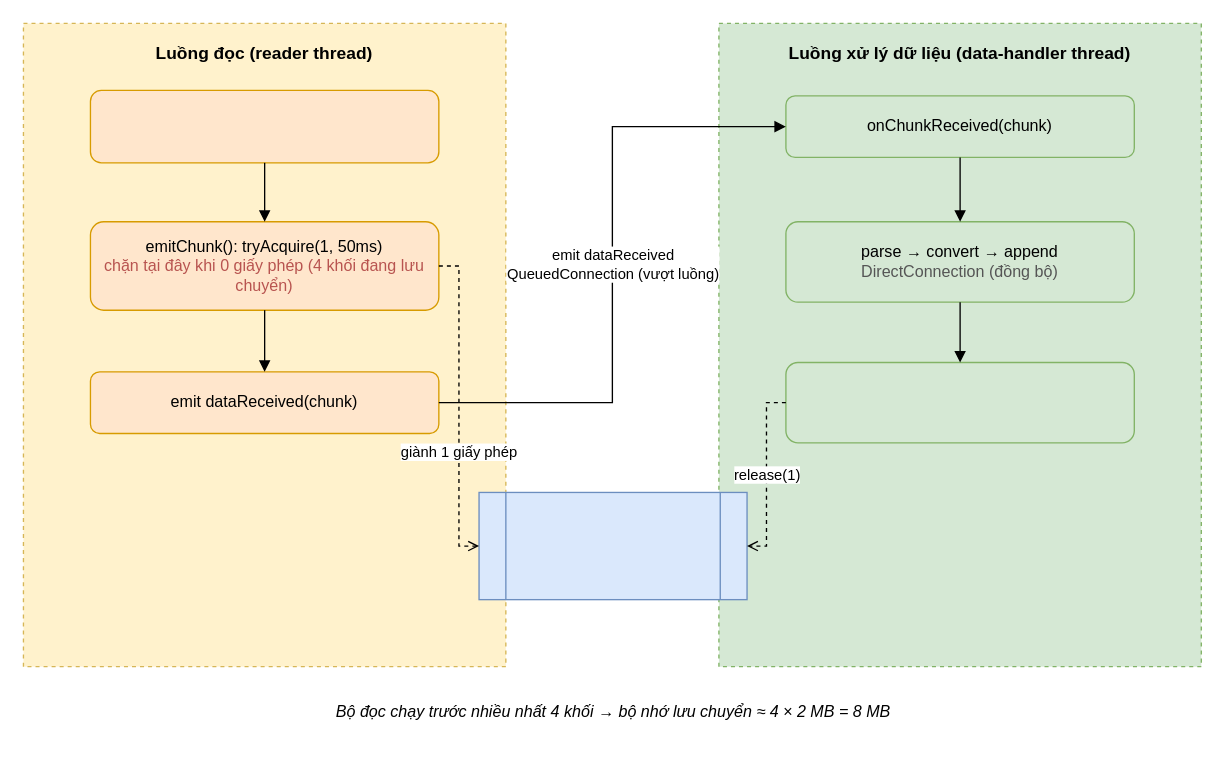
Some shapes in this 1225 by 757 pixel diagram are drawn without their labels. Here are the shapes that lost their labels. From the top down, the centre of each, then its label:
At point (264, 126): "Đọc khối 2 MB while (!file.atEnd())".
At point (959, 402): "releaseChunkSlot() release(1): giải phóng đúng 1 chỗ".
At point (612, 545): "QSemaphore m_freeSlots 4 giấy phép = 4 chỗ trống (kReaderQueueDepth = 4)".
